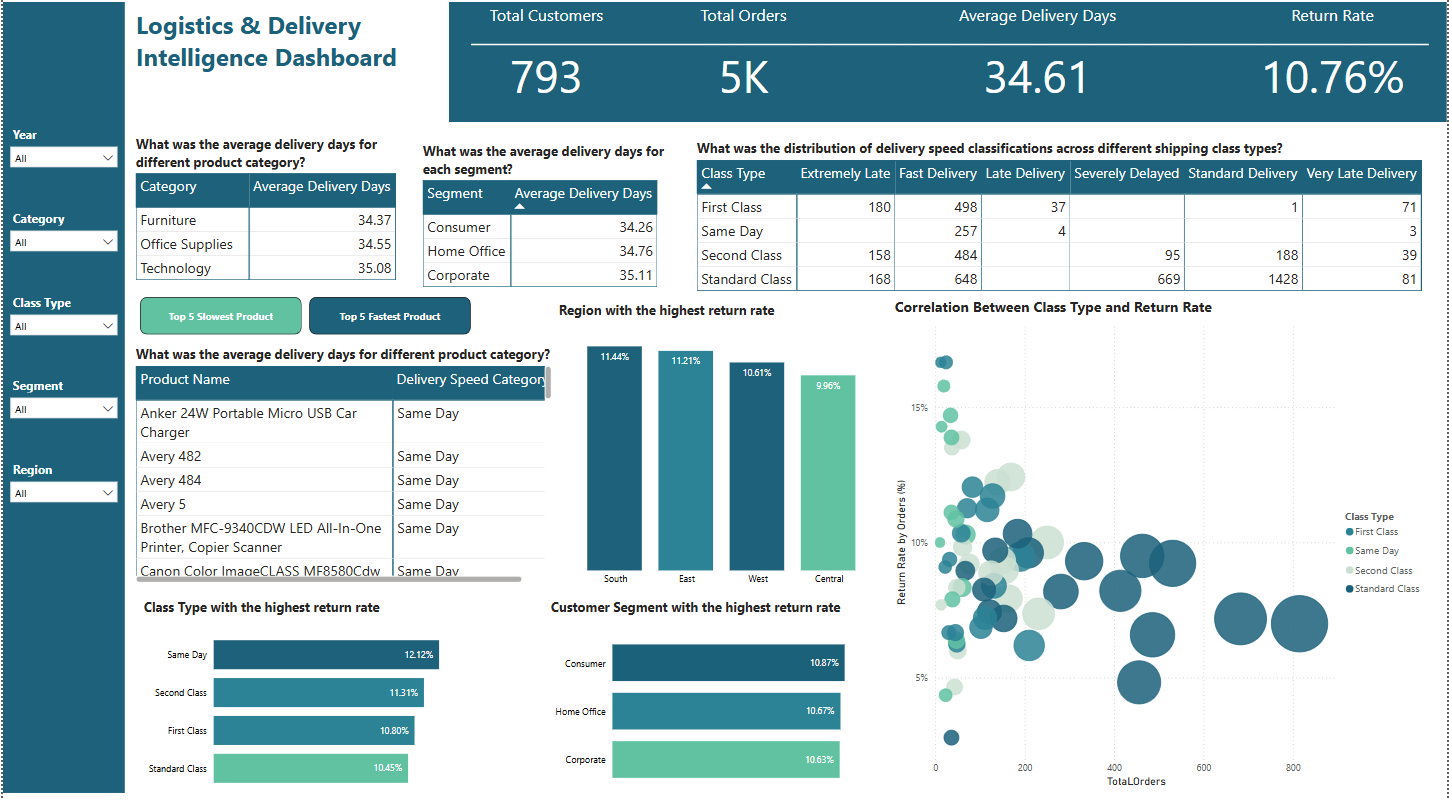

The dashboard page shown, as its layout file describes it:
{"tool":"powerbi","page":{"name":"Page 1","canvas":[1920,1080],"ordinal":0},"visuals":[{"type":"shape","box":[0,14.6,162.3,1052.1],"z":0},{"type":"shape","box":[593.2,14.6,1327.4,159.6],"z":1000},{"type":"cardVisual","title":"Total Customers","fields":{"Data":["Dax Measure.Total Customers"]},"box":[593.2,17.3,259.4,153],"z":2000},{"type":"cardVisual","title":"Total Orders","fields":{"Data":["Dax Measure.TotaLOrders"]},"box":[834.8,17.3,299.3,153],"z":3000},{"type":"cardVisual","title":"Average Delivery Days","fields":{"Data":["Dax Measure.Avg Delivery Days"]},"box":[1226.7,17.3,299.3,153],"z":4000},{"type":"cardVisual","title":"Return Rate","fields":{"Data":["Dax Measure.Return Rate by Orders (%)"]},"box":[1618.7,17.3,299.3,153],"z":5000},{"type":"shape","box":[622.5,61.2,1274.2,20],"z":6000},{"type":"pivotTable","title":"What was the average delivery days for different product category?","fields":{"Values":["Dax Measure.Avg Delivery Days"],"Rows":["Dim Product.Category"]},"box":[171.6,191.5,359.1,206.2],"z":7000},{"type":"pivotTable","title":"What was the average delivery days for each segment?","fields":{"Values":["Dax Measure.Avg Delivery Days"],"Rows":["Dim Customer.Segment"]},"box":[553.3,200.8,345.8,206.2],"z":8000},{"type":"pivotTable","title":"What was the distribution of delivery speed classifications across different shipping class types?","fields":{"Rows":["Fact Others.Class Type"],"Columns":["Fact Others.Delivery Classification"],"Values":["Dax Measure.TotaLOrders"]},"box":[917.7,196.8,990.9,215.5],"z":9000},{"type":"pivotTable","title":"What was the average delivery days for different product category?","fields":{"Values":["Dax Measure.Delivery Speed Category"],"Rows":["Dim Product.Product Name"]},"box":[171.6,470.8,562.6,320.5],"z":10000},{"type":"scatterChart","title":"Correlation Between Class Type and Return Rate","fields":{"X":["Dax Measure.TotaLOrders"],"Y":["Dax Measure.Return Rate by Orders (%)"],"Category":["Dim Product.Sub-Category"],"Series":["Fact Others.Class Type"],"Size":["Dax Measure.TotaLOrders"]},"box":[1181.1,407,716.9,657],"z":12000},{"type":"barChart","title":"Class Type with the highest return rate","fields":{"Y":["Dax Measure.Return Rate by Orders (%)"],"Category":["Fact Others.Class Type"]},"box":[182.2,807.3,454.9,272.7],"z":13000},{"type":"barChart","title":"Customer Segment with the highest return rate","fields":{"Y":["Dax Measure.Return Rate by Orders (%)"],"Category":["Dim Customer.Segment"]},"box":[723.5,807.3,445.6,272.7],"z":14000},{"type":"textbox","box":[171.6,17.3,421.6,156.9],"z":15000},{"type":"slicer","fields":{"Values":["Dim Product.Category"]},"box":[0,285.6,162.3,82.5],"z":16000},{"type":"slicer","fields":{"Values":["Calendar Table.Year"]},"box":[0,174.2,162.3,82.5],"z":16001},{"type":"slicer","fields":{"Values":["Fact Others.Class Type"]},"box":[0,397,162.3,82.5],"z":16002},{"type":"slicer","fields":{"Values":["Dim Customer.Segment"]},"box":[0,508.4,162.3,82.5],"z":16003},{"type":"slicer","fields":{"Values":["Dim Location.Region"]},"box":[0,619.8,162.3,82.5],"z":16004},{"type":"columnChart","title":"Region with the highest return rate","fields":{"Category":["Dim Location.Region"],"Y":["Dax Measure.Return Rate by Orders (%)"]},"box":[734.2,412.3,445.6,388.4],"z":16005},{"type":"bookmarkNavigator","box":[182.2,407,440.2,50.5],"z":16006}]}

Visuals, with their boxes in screenshot pixels (x1, y1, x2, y2), scaled from the page's 1920x1080 canvas onto the 1452x800 screenshot:
shape: (x1=0, y1=11, x2=123, y2=790)
shape: (x1=449, y1=11, x2=1451, y2=129)
"Total Customers" cardVisual: (x1=449, y1=13, x2=645, y2=126)
"Total Orders" cardVisual: (x1=631, y1=13, x2=858, y2=126)
"Average Delivery Days" cardVisual: (x1=928, y1=13, x2=1154, y2=126)
"Return Rate" cardVisual: (x1=1224, y1=13, x2=1450, y2=126)
shape: (x1=471, y1=45, x2=1434, y2=60)
"What was the average delivery days for different product category?" pivotTable: (x1=130, y1=142, x2=401, y2=295)
"What was the average delivery days for each segment?" pivotTable: (x1=418, y1=149, x2=680, y2=301)
"What was the distribution of delivery speed classifications across different shipping class types?" pivotTable: (x1=694, y1=146, x2=1443, y2=305)
"What was the average delivery days for different product category?" pivotTable: (x1=130, y1=349, x2=555, y2=586)
"Correlation Between Class Type and Return Rate" scatterChart: (x1=893, y1=301, x2=1435, y2=788)
"Class Type with the highest return rate" barChart: (x1=138, y1=598, x2=482, y2=799)
"Customer Segment with the highest return rate" barChart: (x1=547, y1=598, x2=884, y2=799)
textbox: (x1=130, y1=13, x2=449, y2=129)
slicer - Dim Product.Category: (x1=0, y1=212, x2=123, y2=273)
slicer - Calendar Table.Year: (x1=0, y1=129, x2=123, y2=190)
slicer - Fact Others.Class Type: (x1=0, y1=294, x2=123, y2=355)
slicer - Dim Customer.Segment: (x1=0, y1=377, x2=123, y2=438)
slicer - Dim Location.Region: (x1=0, y1=459, x2=123, y2=520)
"Region with the highest return rate" columnChart: (x1=555, y1=305, x2=892, y2=593)
bookmarkNavigator: (x1=138, y1=301, x2=471, y2=339)
